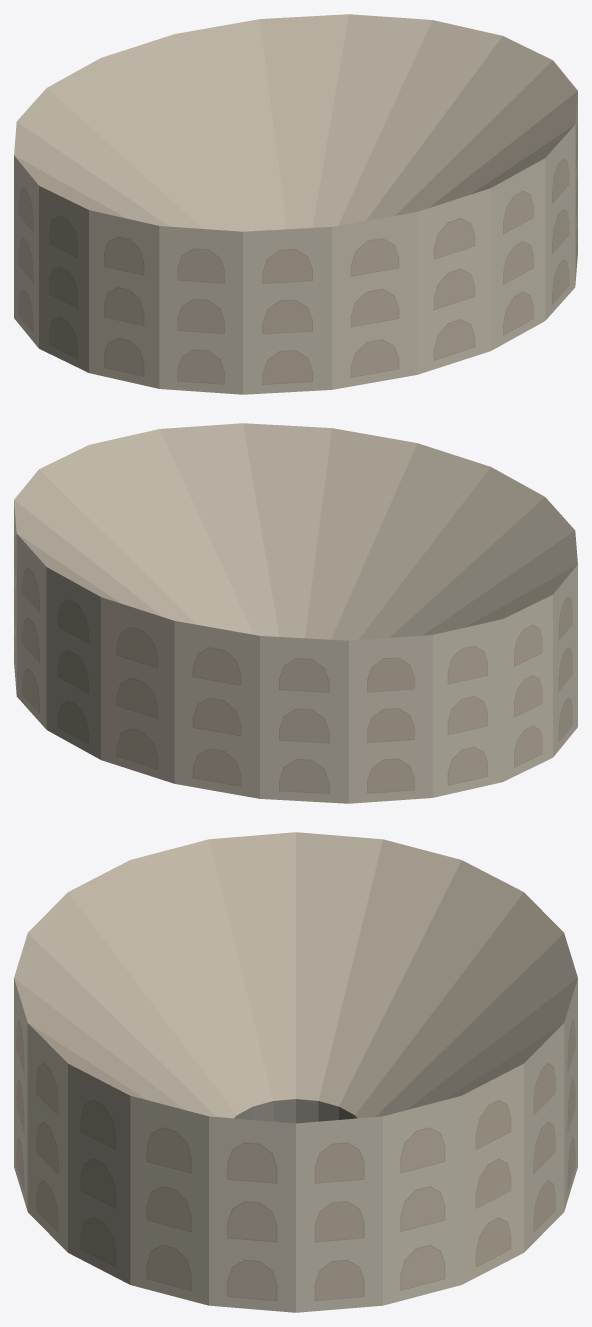
Rendered from amphitheatre_romain.glb.
3 views of the same model, one above another, from view 1: azimuth 30°, elevation 25°; view 2: azimuth 150°, elevation 25°; view 3: azimuth 270°, elevation 25° (orthographic). The views are drawn at different scales.
Parts seen in each view (by area): view 1: amphitheatre_romain; view 2: amphitheatre_romain; view 3: amphitheatre_romain.
Part boxes in pixels (x1,y1,x2,y2): amphitheatre_romain: [14, 14, 577, 394]; amphitheatre_romain: [14, 423, 577, 803]; amphitheatre_romain: [14, 832, 577, 1312].
Size of the model in its own units: 66 by 20 by 54.
1 material, 1 textured.
